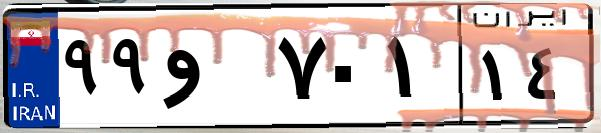0: (330, 28, 385, 110)
1: (385, 28, 445, 110), (475, 38, 525, 113)
4: (525, 38, 570, 115)
7: (270, 28, 330, 110)
9: (57, 26, 110, 100), (110, 28, 158, 98)
و: (158, 20, 270, 120)
